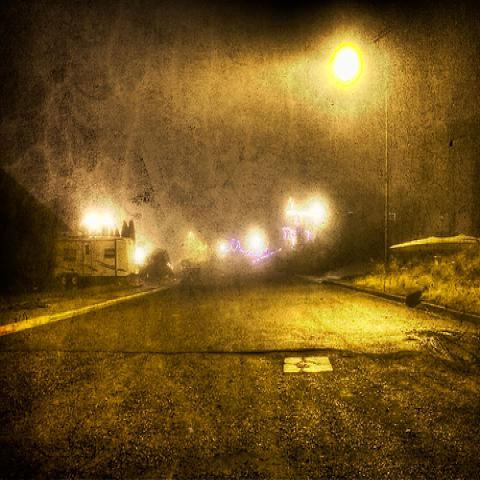truck: (54, 233, 134, 287)
